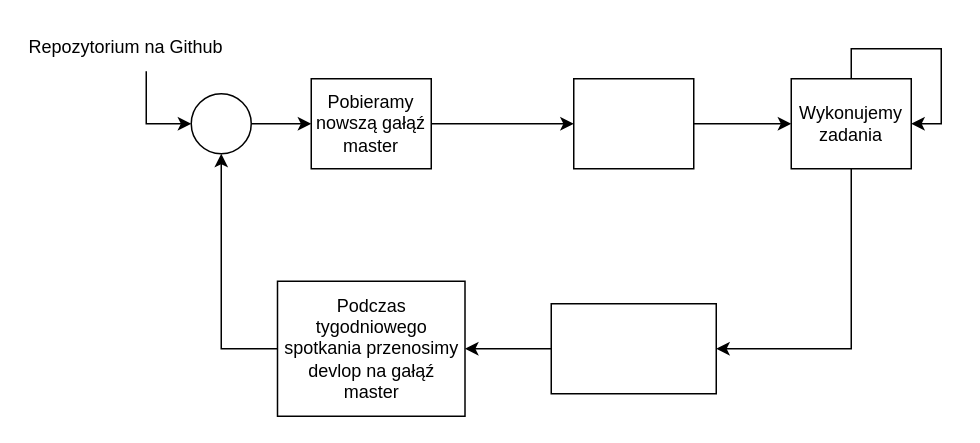
Some shapes in this 980 by 443 pixel diagram are drawn without their labels. The centre of each missing label's shape, as x and y in pixels:
"Tworzymy swoją gałąź" goes at [633,123].
"W ysyłamy pull request na gałąź develop" goes at [633,348].
